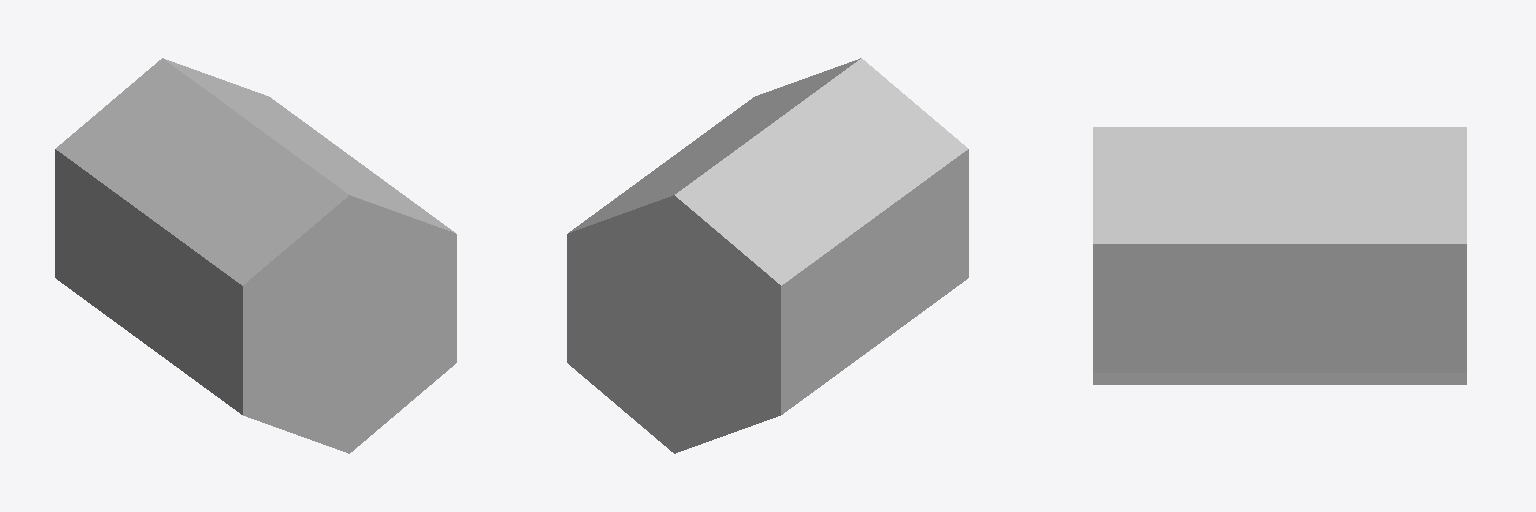
Rendered from vine-whip-segment-plain.obj.
3 views of the same model, side by side, from view 1: azimuth 30°, elevation 25°; view 2: azimuth 150°, elevation 25°; view 3: azimuth 270°, elevation 25° (orthographic).
Visible parts, largest first — view 1: Whip.Segment.Standard.003; view 2: Whip.Segment.Standard.003; view 3: Whip.Segment.Standard.003.
Boxes of the visible parts, <box> form: Whip.Segment.Standard.003: <box>55,58,456,453</box>; Whip.Segment.Standard.003: <box>567,58,968,453</box>; Whip.Segment.Standard.003: <box>1093,127,1466,384</box>.
Size of the model in its own units: 0.0606 by 0.07 by 0.0918.